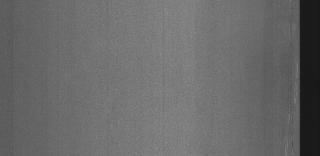silk spot: (280, 14, 298, 154)
